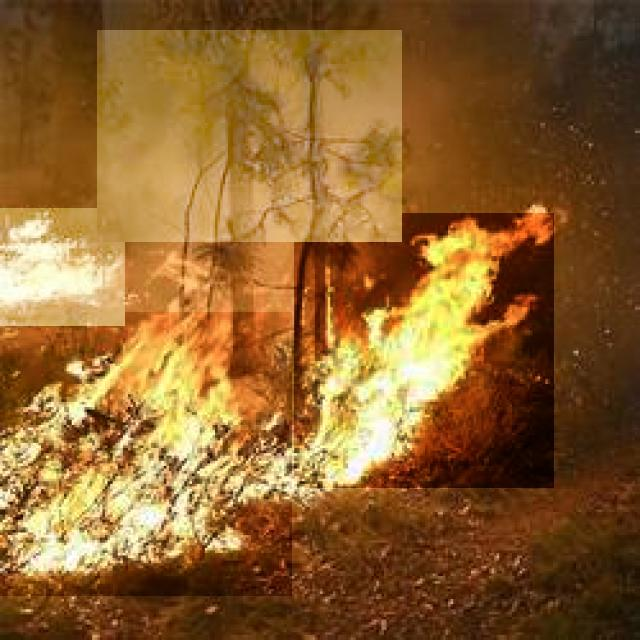Fire: (0, 313, 292, 596), (294, 213, 554, 488), (0, 208, 125, 326)
Smoke: (97, 30, 402, 242)
